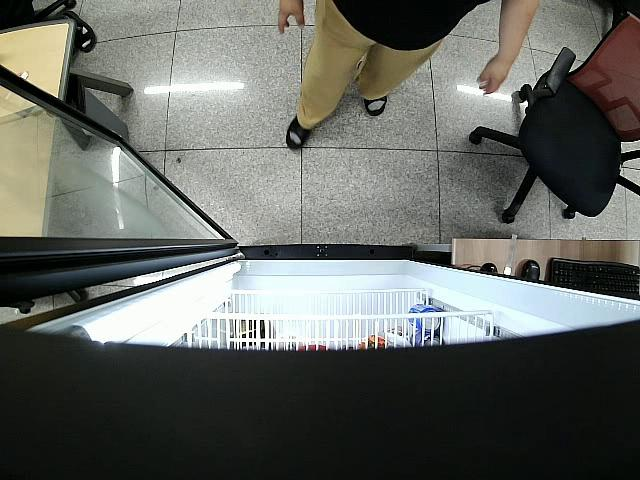00_hand: (477, 53, 513, 96), (277, 0, 305, 33)
